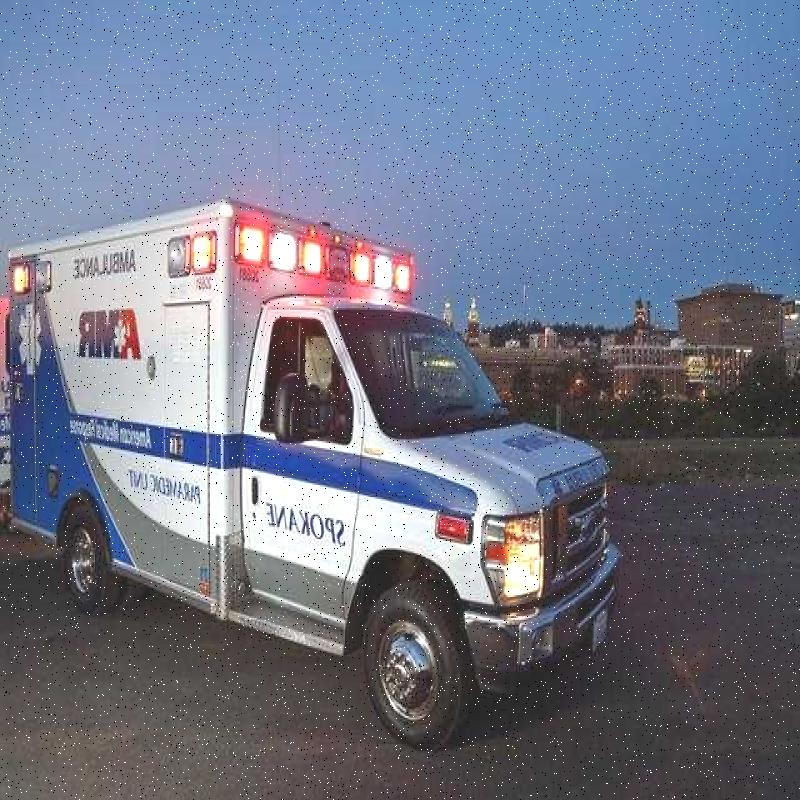AmbulanceSiren: (223, 209, 435, 302)
